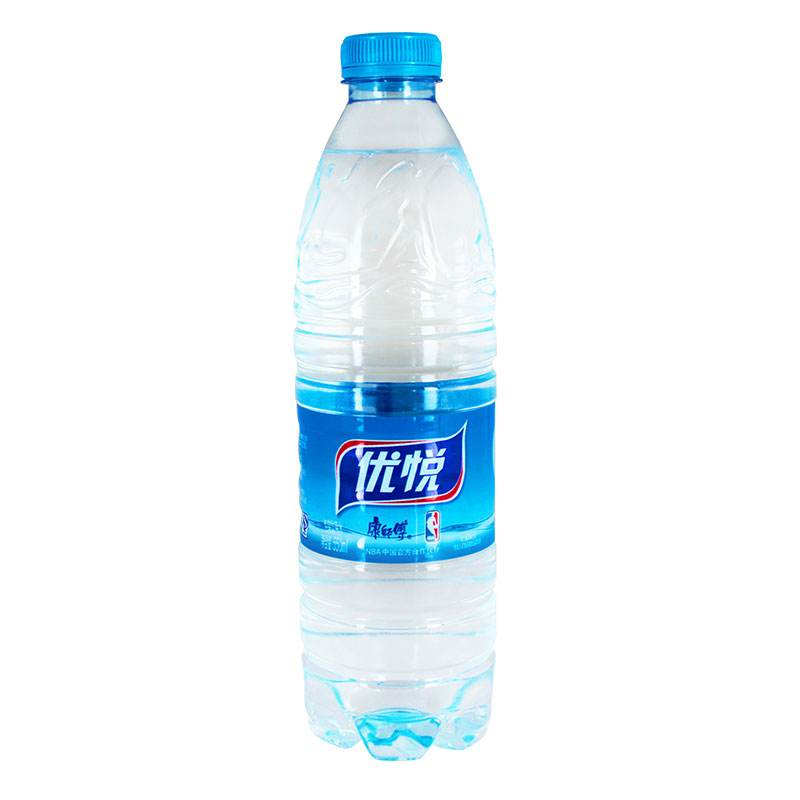amwater: (282, 3, 540, 772)
